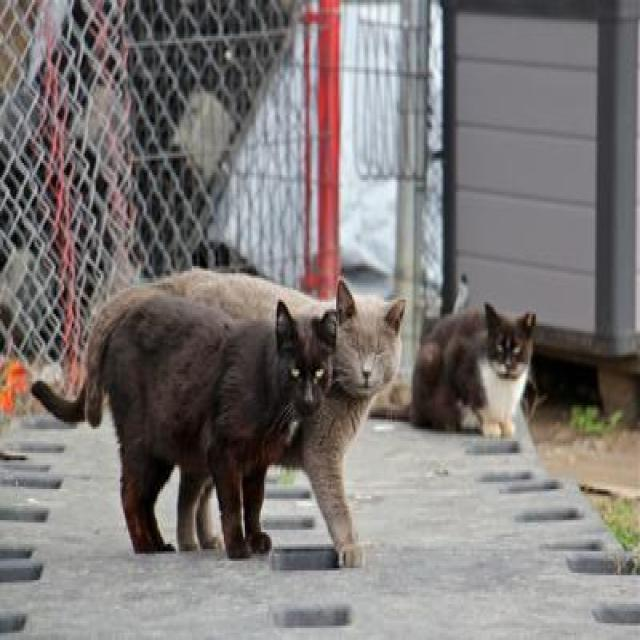cat: (32, 290, 336, 557), (281, 281, 405, 566), (412, 305, 533, 437), (156, 270, 331, 320)
